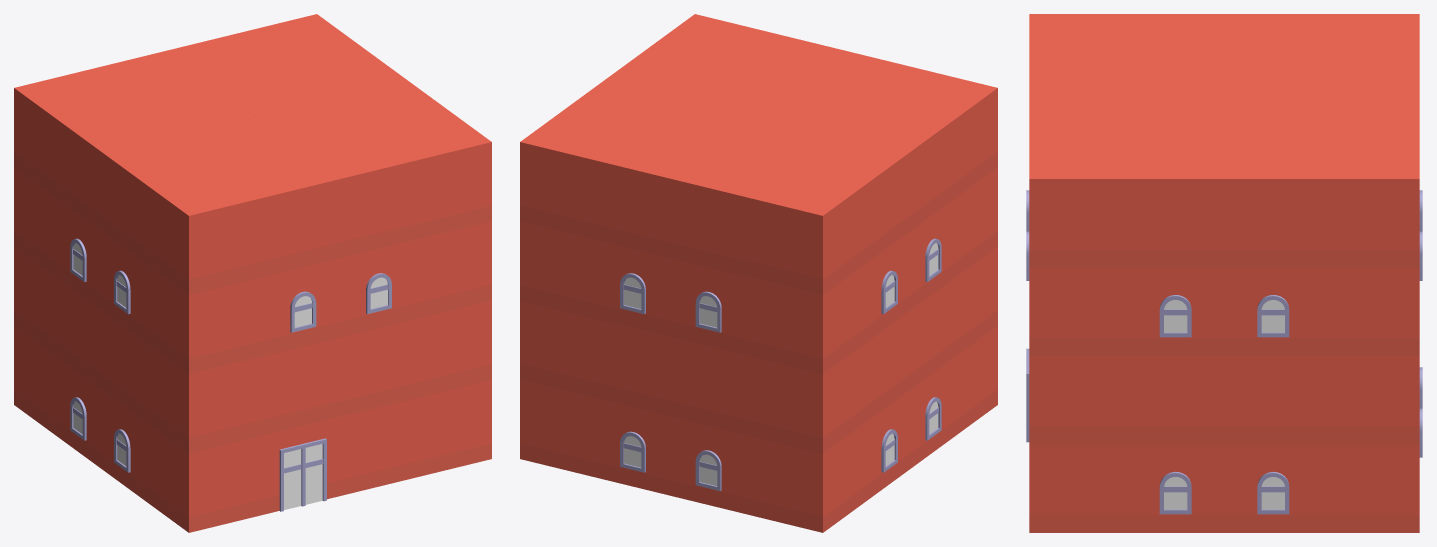
File: lame_apartment.glb
3 renders of one model, left to right at view 1: azimuth 30°, elevation 25°; view 2: azimuth 150°, elevation 25°; view 3: azimuth 270°, elevation 25°, orthographic. The views are drawn at different scales.
Visible parts, largest first — view 1: mergedBlocks(Clone); view 2: mergedBlocks(Clone); view 3: mergedBlocks(Clone).
Part boxes in pixels (box(x1,y1,x2,y2)): mergedBlocks(Clone): box(14, 14, 491, 532); mergedBlocks(Clone): box(520, 14, 997, 532); mergedBlocks(Clone): box(1026, 14, 1422, 532).
Size of the model in its own units: 4.06 by 4 by 4.06.
